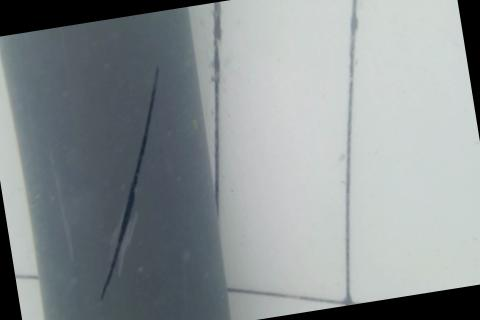keretakan: (63, 65, 194, 305)
